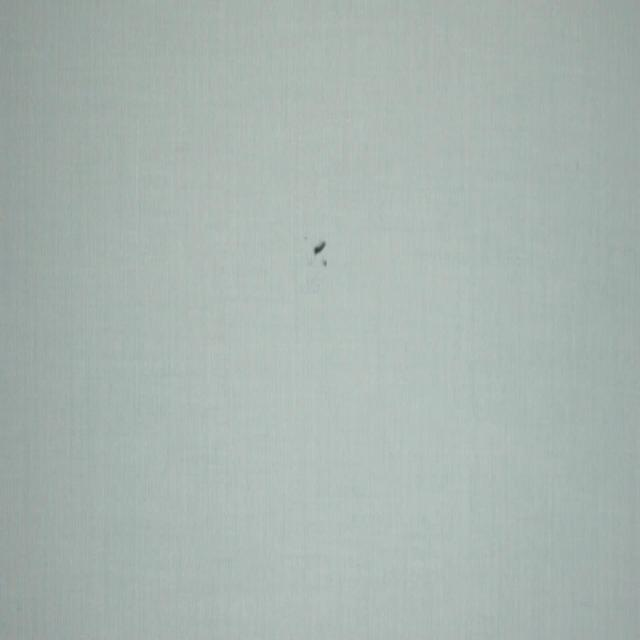dirty: (314, 238, 326, 251), (323, 260, 328, 269)
